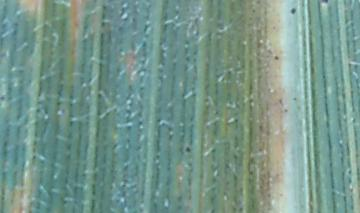tarspot: (183, 144, 193, 156), (288, 6, 297, 15), (272, 54, 280, 63), (277, 96, 284, 106), (319, 1, 329, 5), (291, 95, 296, 101), (283, 108, 288, 113)
